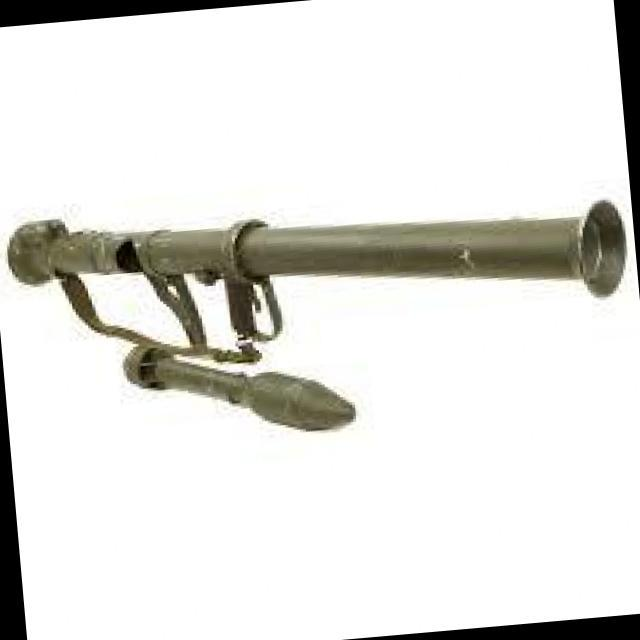rocket: (5, 158, 638, 448)
